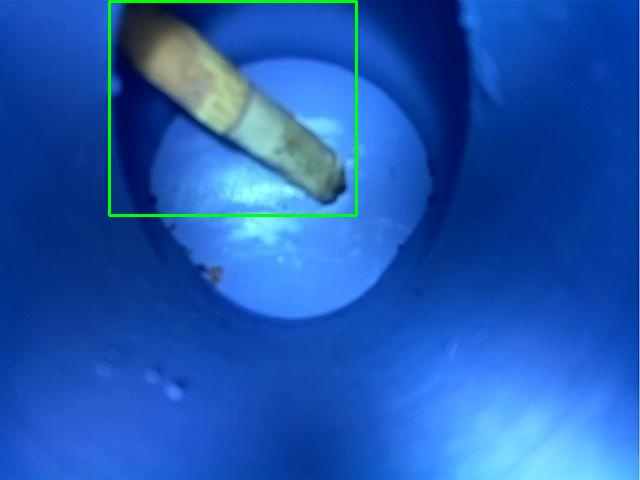megot: (109, 1, 356, 215)
